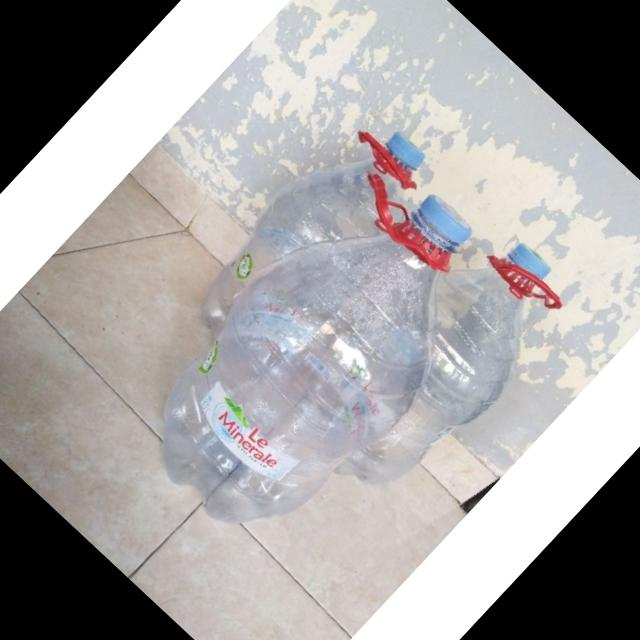Galon: (111, 136, 534, 568)
